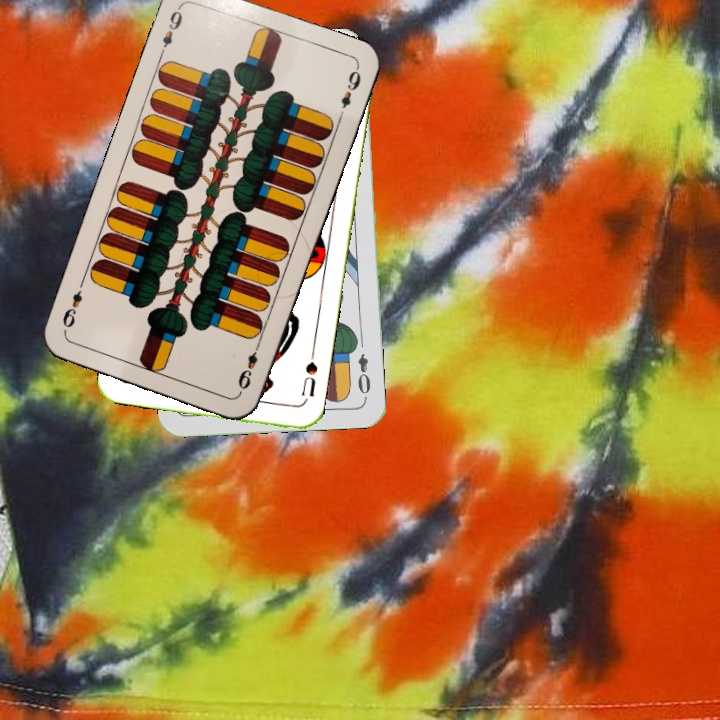E9: (156, 2, 185, 58), (234, 338, 264, 392)
EO: (353, 350, 373, 402)
SU: (297, 347, 321, 406)
